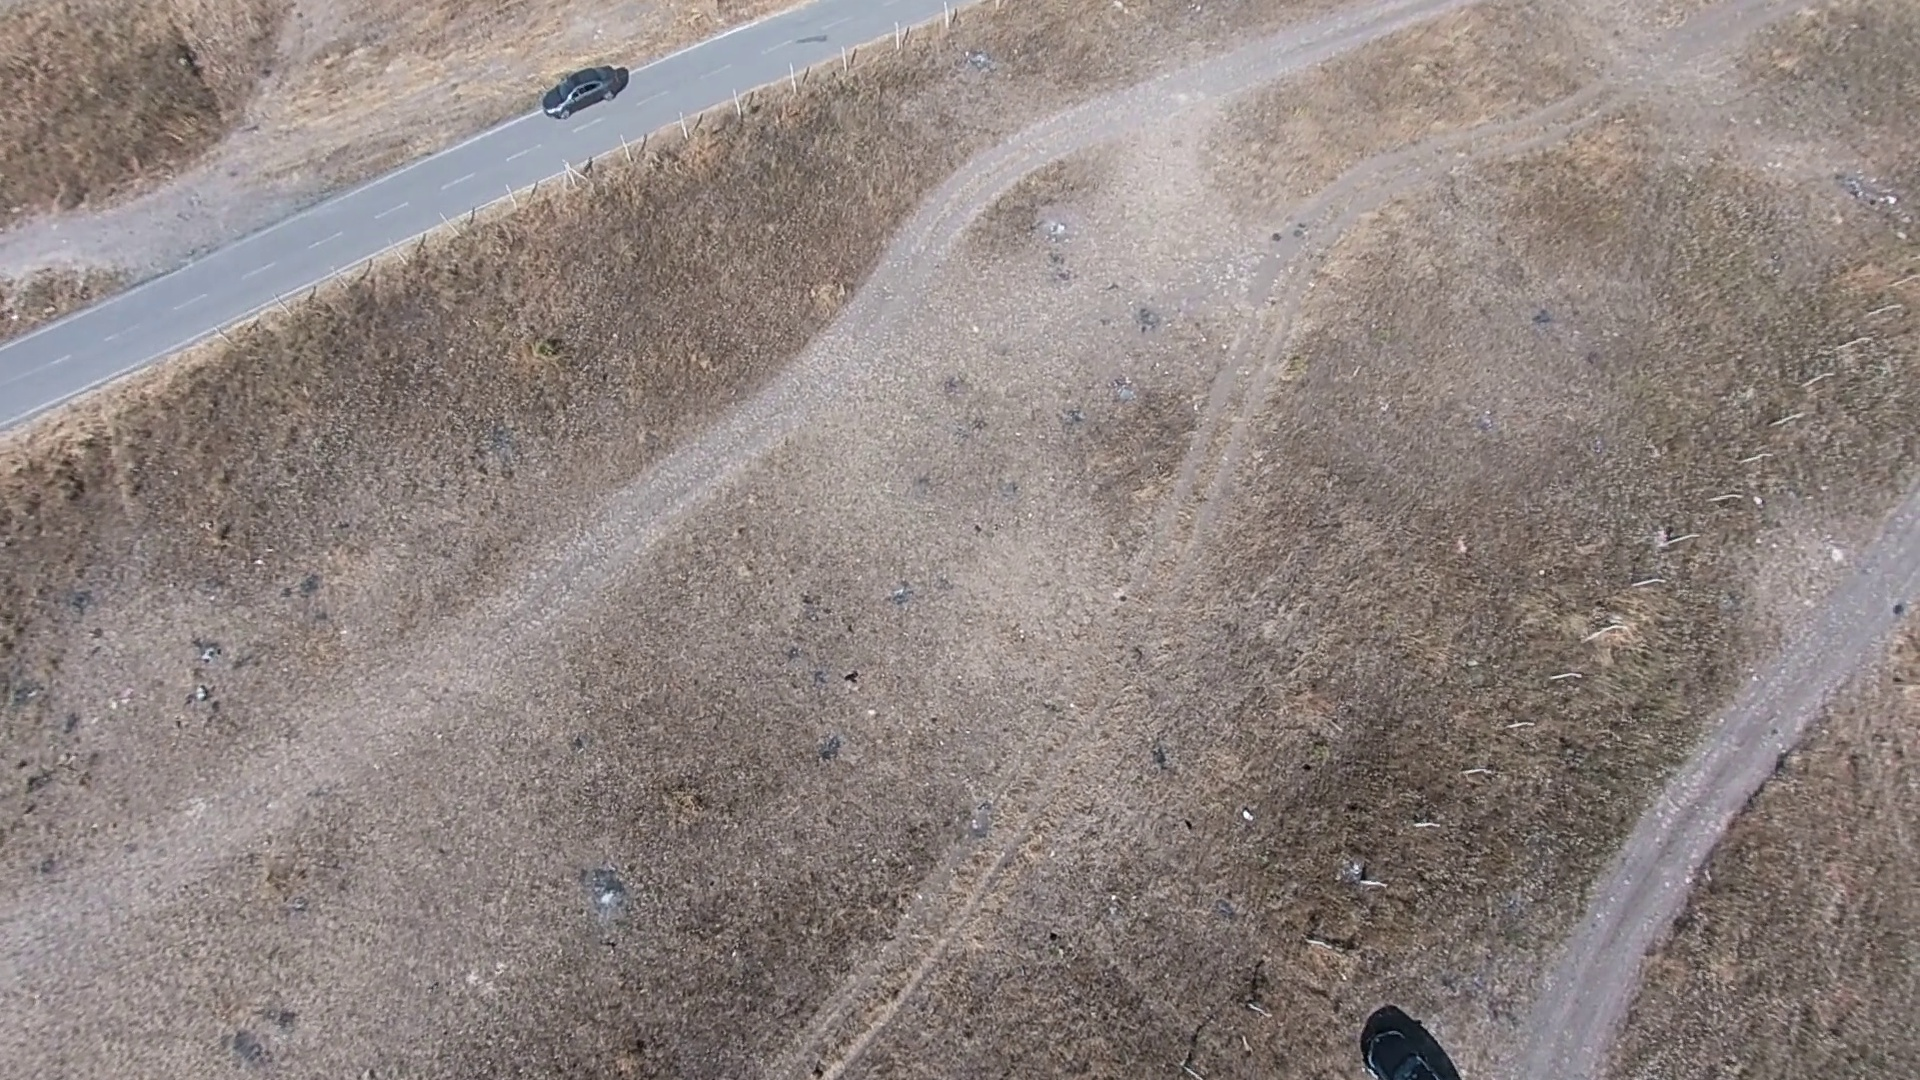araba: (543, 62, 621, 119), (1360, 1029, 1435, 1080)
